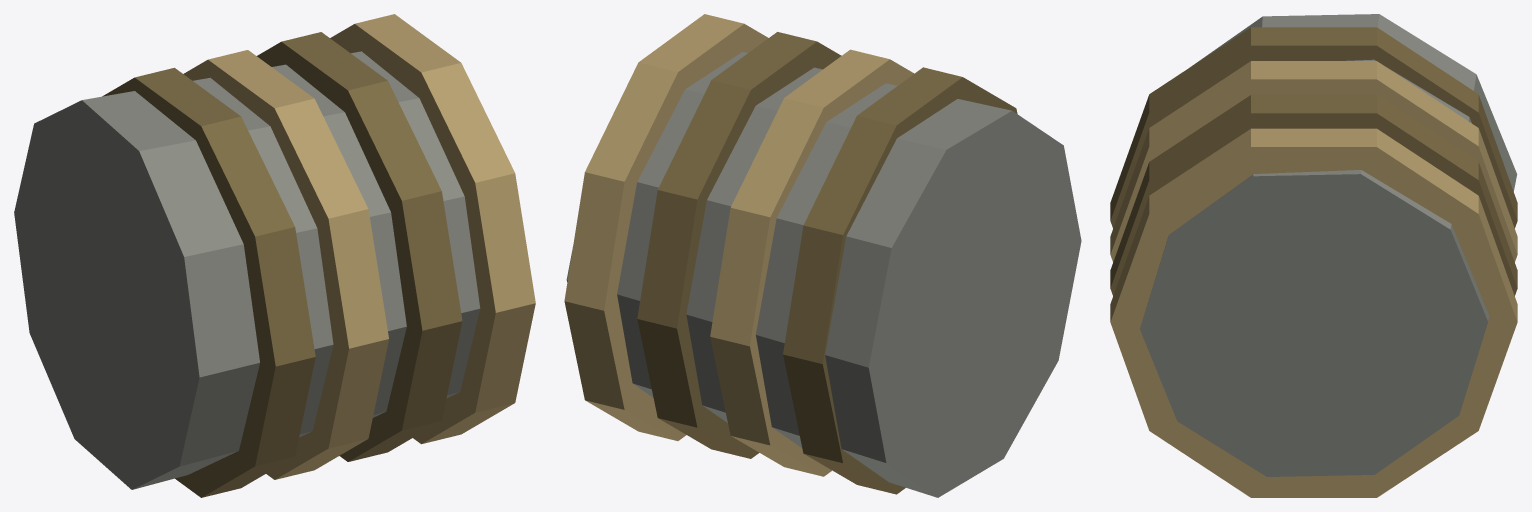
File: old_stackstone_bracer_l.glb
3 renders of one model, left to right at view 1: azimuth 30°, elevation 25°; view 2: azimuth 150°, elevation 25°; view 3: azimuth 270°, elevation 25°, orthographic. The views are drawn at different scales.
Visible parts, largest first — view 1: old_stackstone_bracer_l; view 2: old_stackstone_bracer_l; view 3: old_stackstone_bracer_l.
Part boxes in pixels (x1,y1,x2,y2): old_stackstone_bracer_l: (14,14,535,497); old_stackstone_bracer_l: (564,14,1081,497); old_stackstone_bracer_l: (1110,14,1517,497).
Bounding box in the file's own units: 0.2504 × 0.2663 × 0.28.
